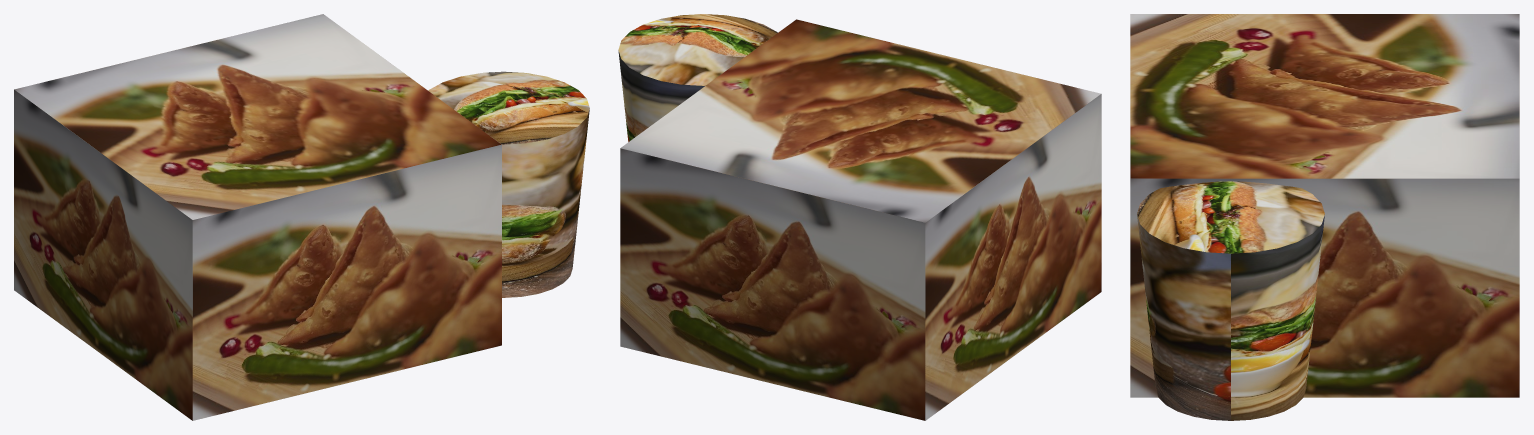
Rendered from p2-gujarati.glb.
3 views of the same model, side by side, from view 1: azimuth 30°, elevation 25°; view 2: azimuth 150°, elevation 25°; view 3: azimuth 270°, elevation 25° (orthographic). The views are drawn at different scales.
Size of the model in its own units: 2.02 by 0.94 by 1.45.
2 materials, 2 textured.
